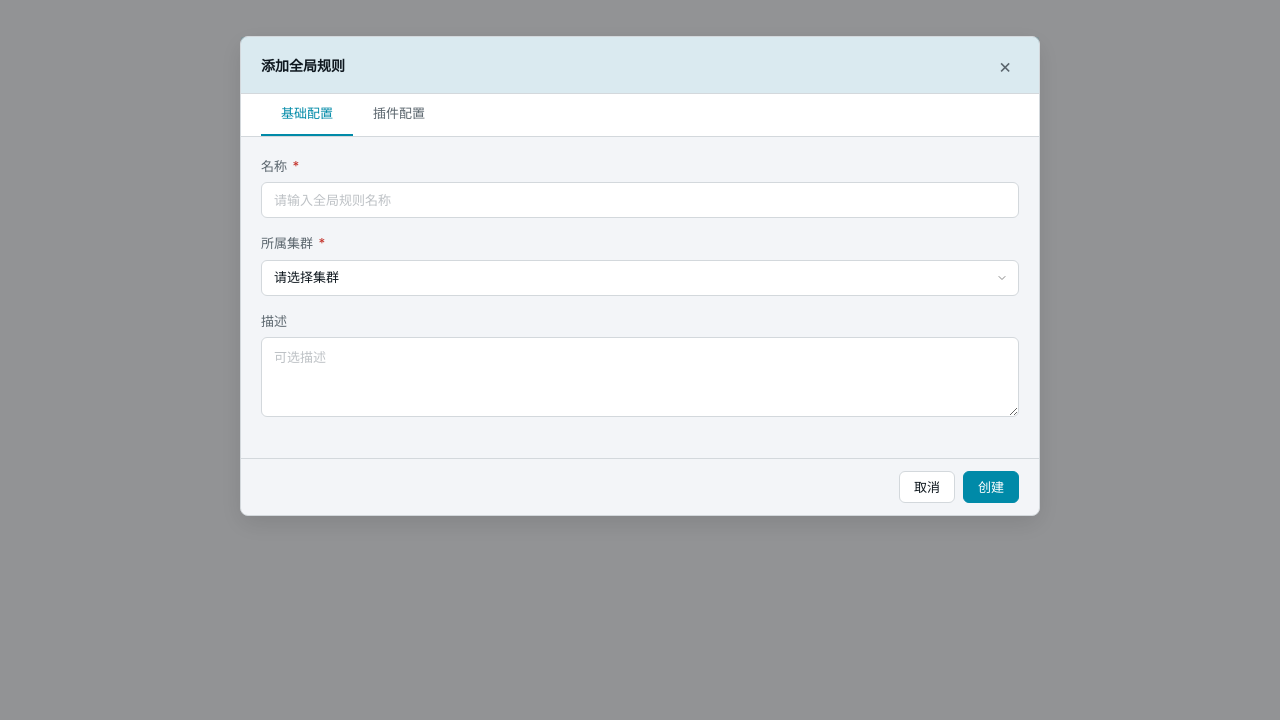
Test: PluginEntityFormModal.vue — 8.3/8.5 global_rule 插件清单过滤（H2，A1 二次修订；两入口单点） › global_rule + 清单 [traceid, monitor]：目录 4 → 可见 2（可见集 = 目录 ∩ 清单）
The width and height of the screenshot is (1280, 720).
Click the button with class "tab-btn" showing "插件配置" at (399, 115), box [353,94,445,136]
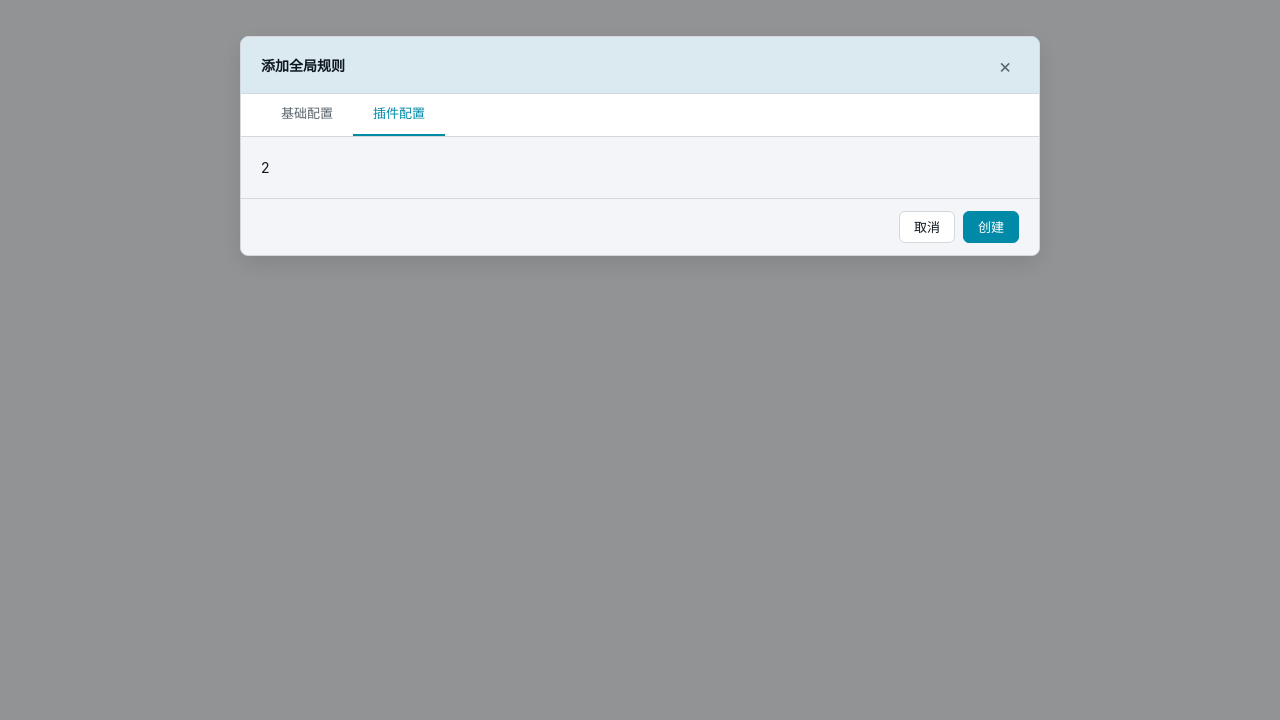
expect the text "2" is shown: met, box [261,158,270,176]
